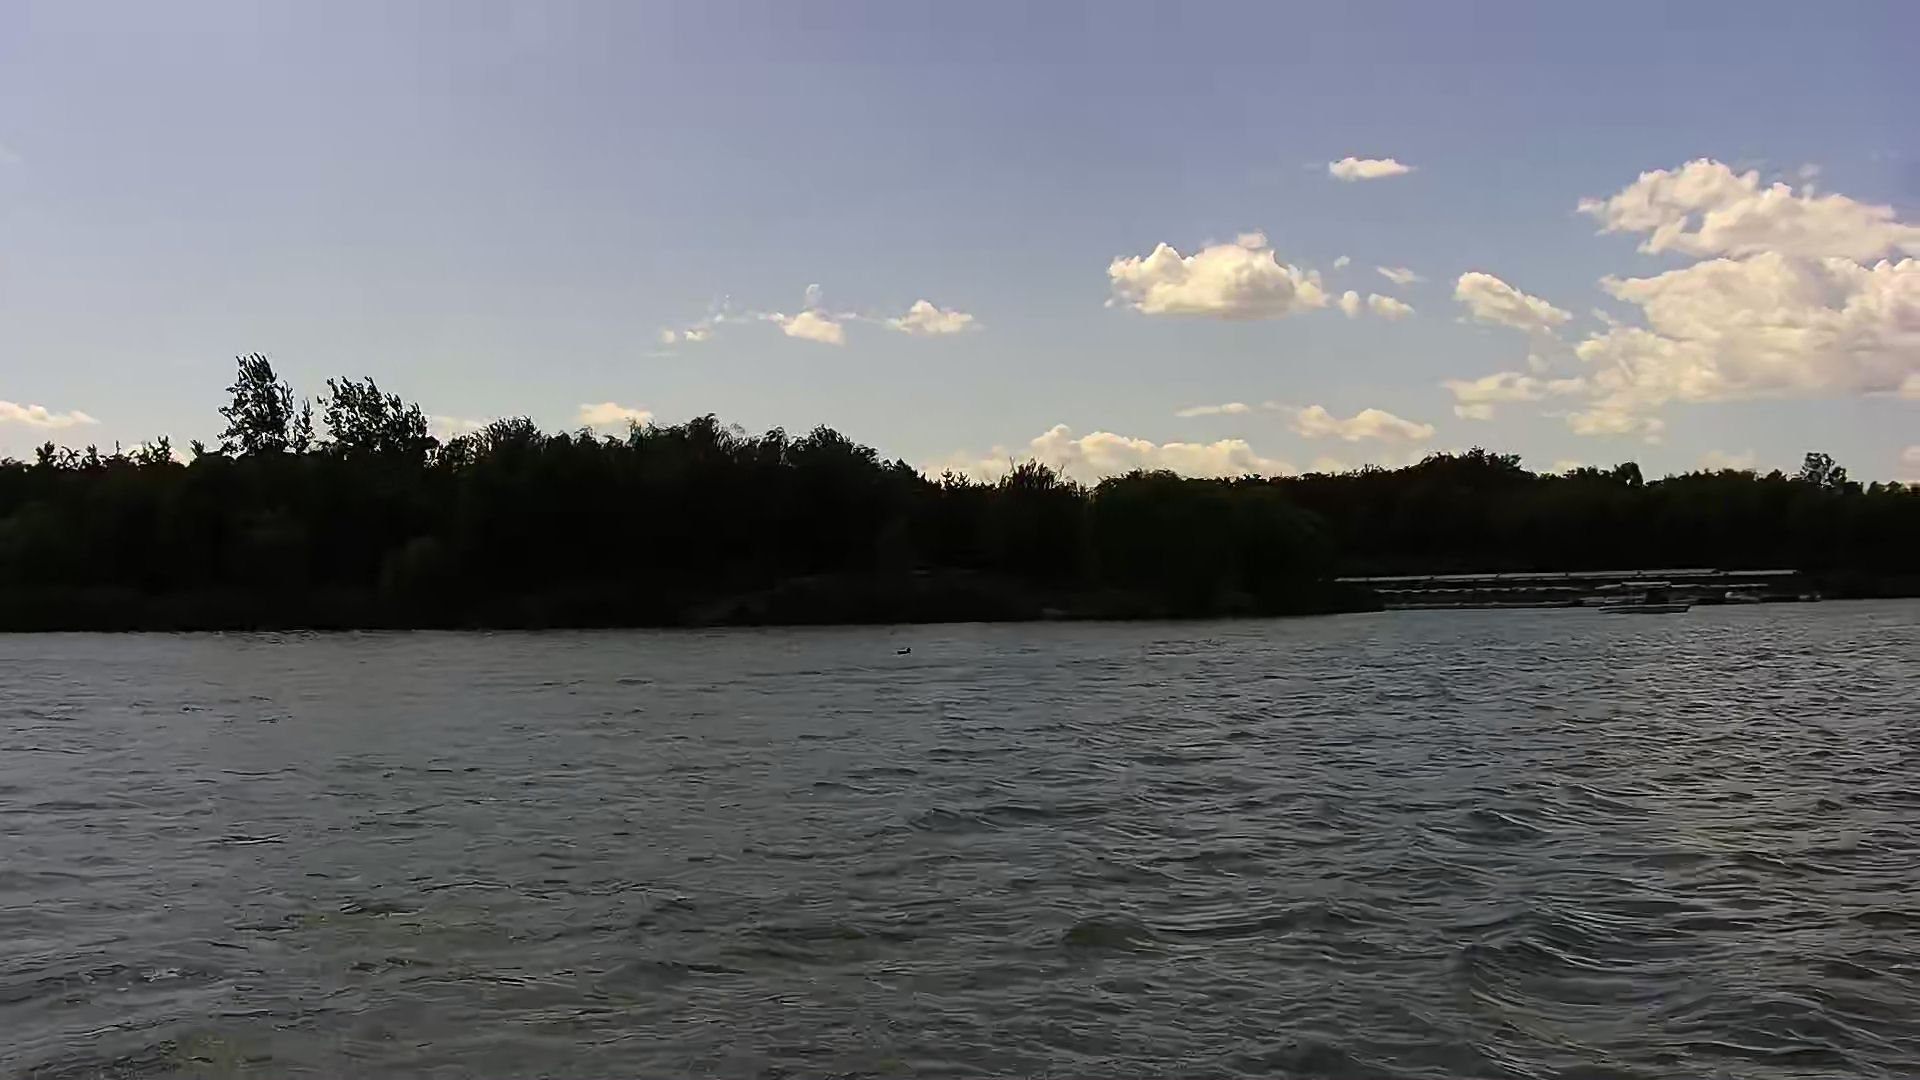boat: (1594, 576, 1697, 621)
harbor: (1335, 564, 1811, 607)
